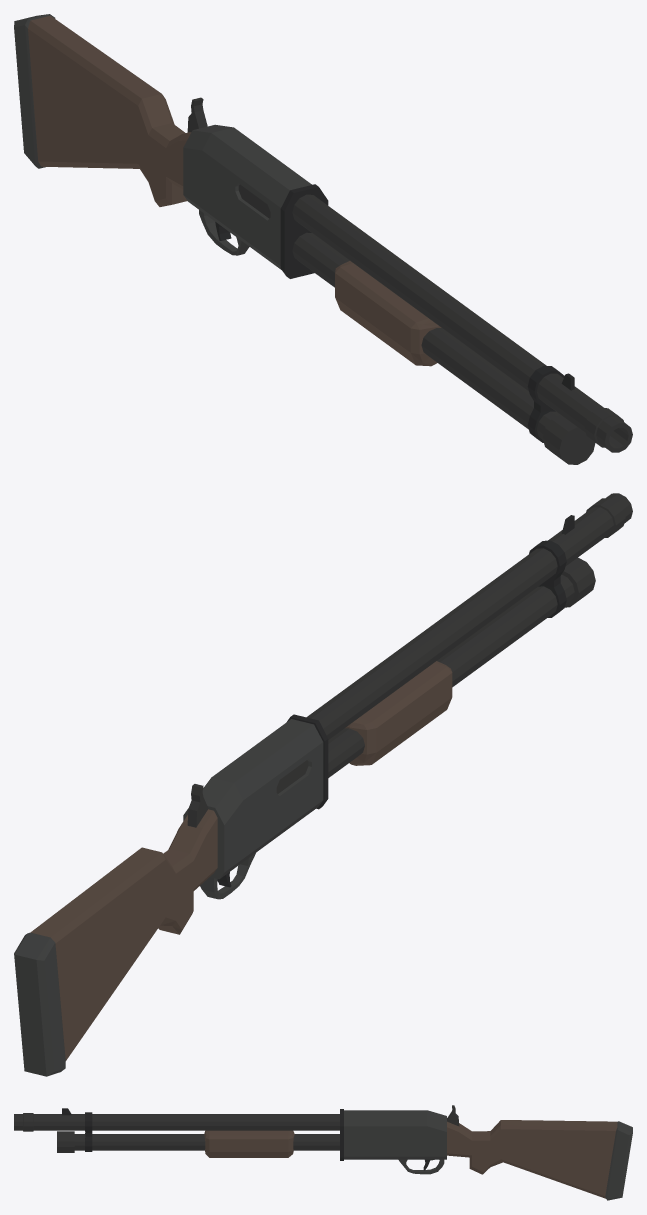
Rendered from shotgun-3.glb.
The picture shows the model from 3 angles, top to bottom: view 1: azimuth 30°, elevation 25°; view 2: azimuth 150°, elevation 25°; view 3: azimuth 270°, elevation 25°; orthographic projection. The views are drawn at different scales.
Parts seen in each view (by area): view 1: Shotgun_3; view 2: Shotgun_3; view 3: Shotgun_3.
Boxes of the visible parts, left/top/right/bottom form: Shotgun_3: left=14, top=14, right=632, bottom=464; Shotgun_3: left=14, top=493, right=632, bottom=1076; Shotgun_3: left=14, top=1105, right=632, bottom=1200.
Size of the model in its own units: 0.0405 by 0.1548 by 0.95.
